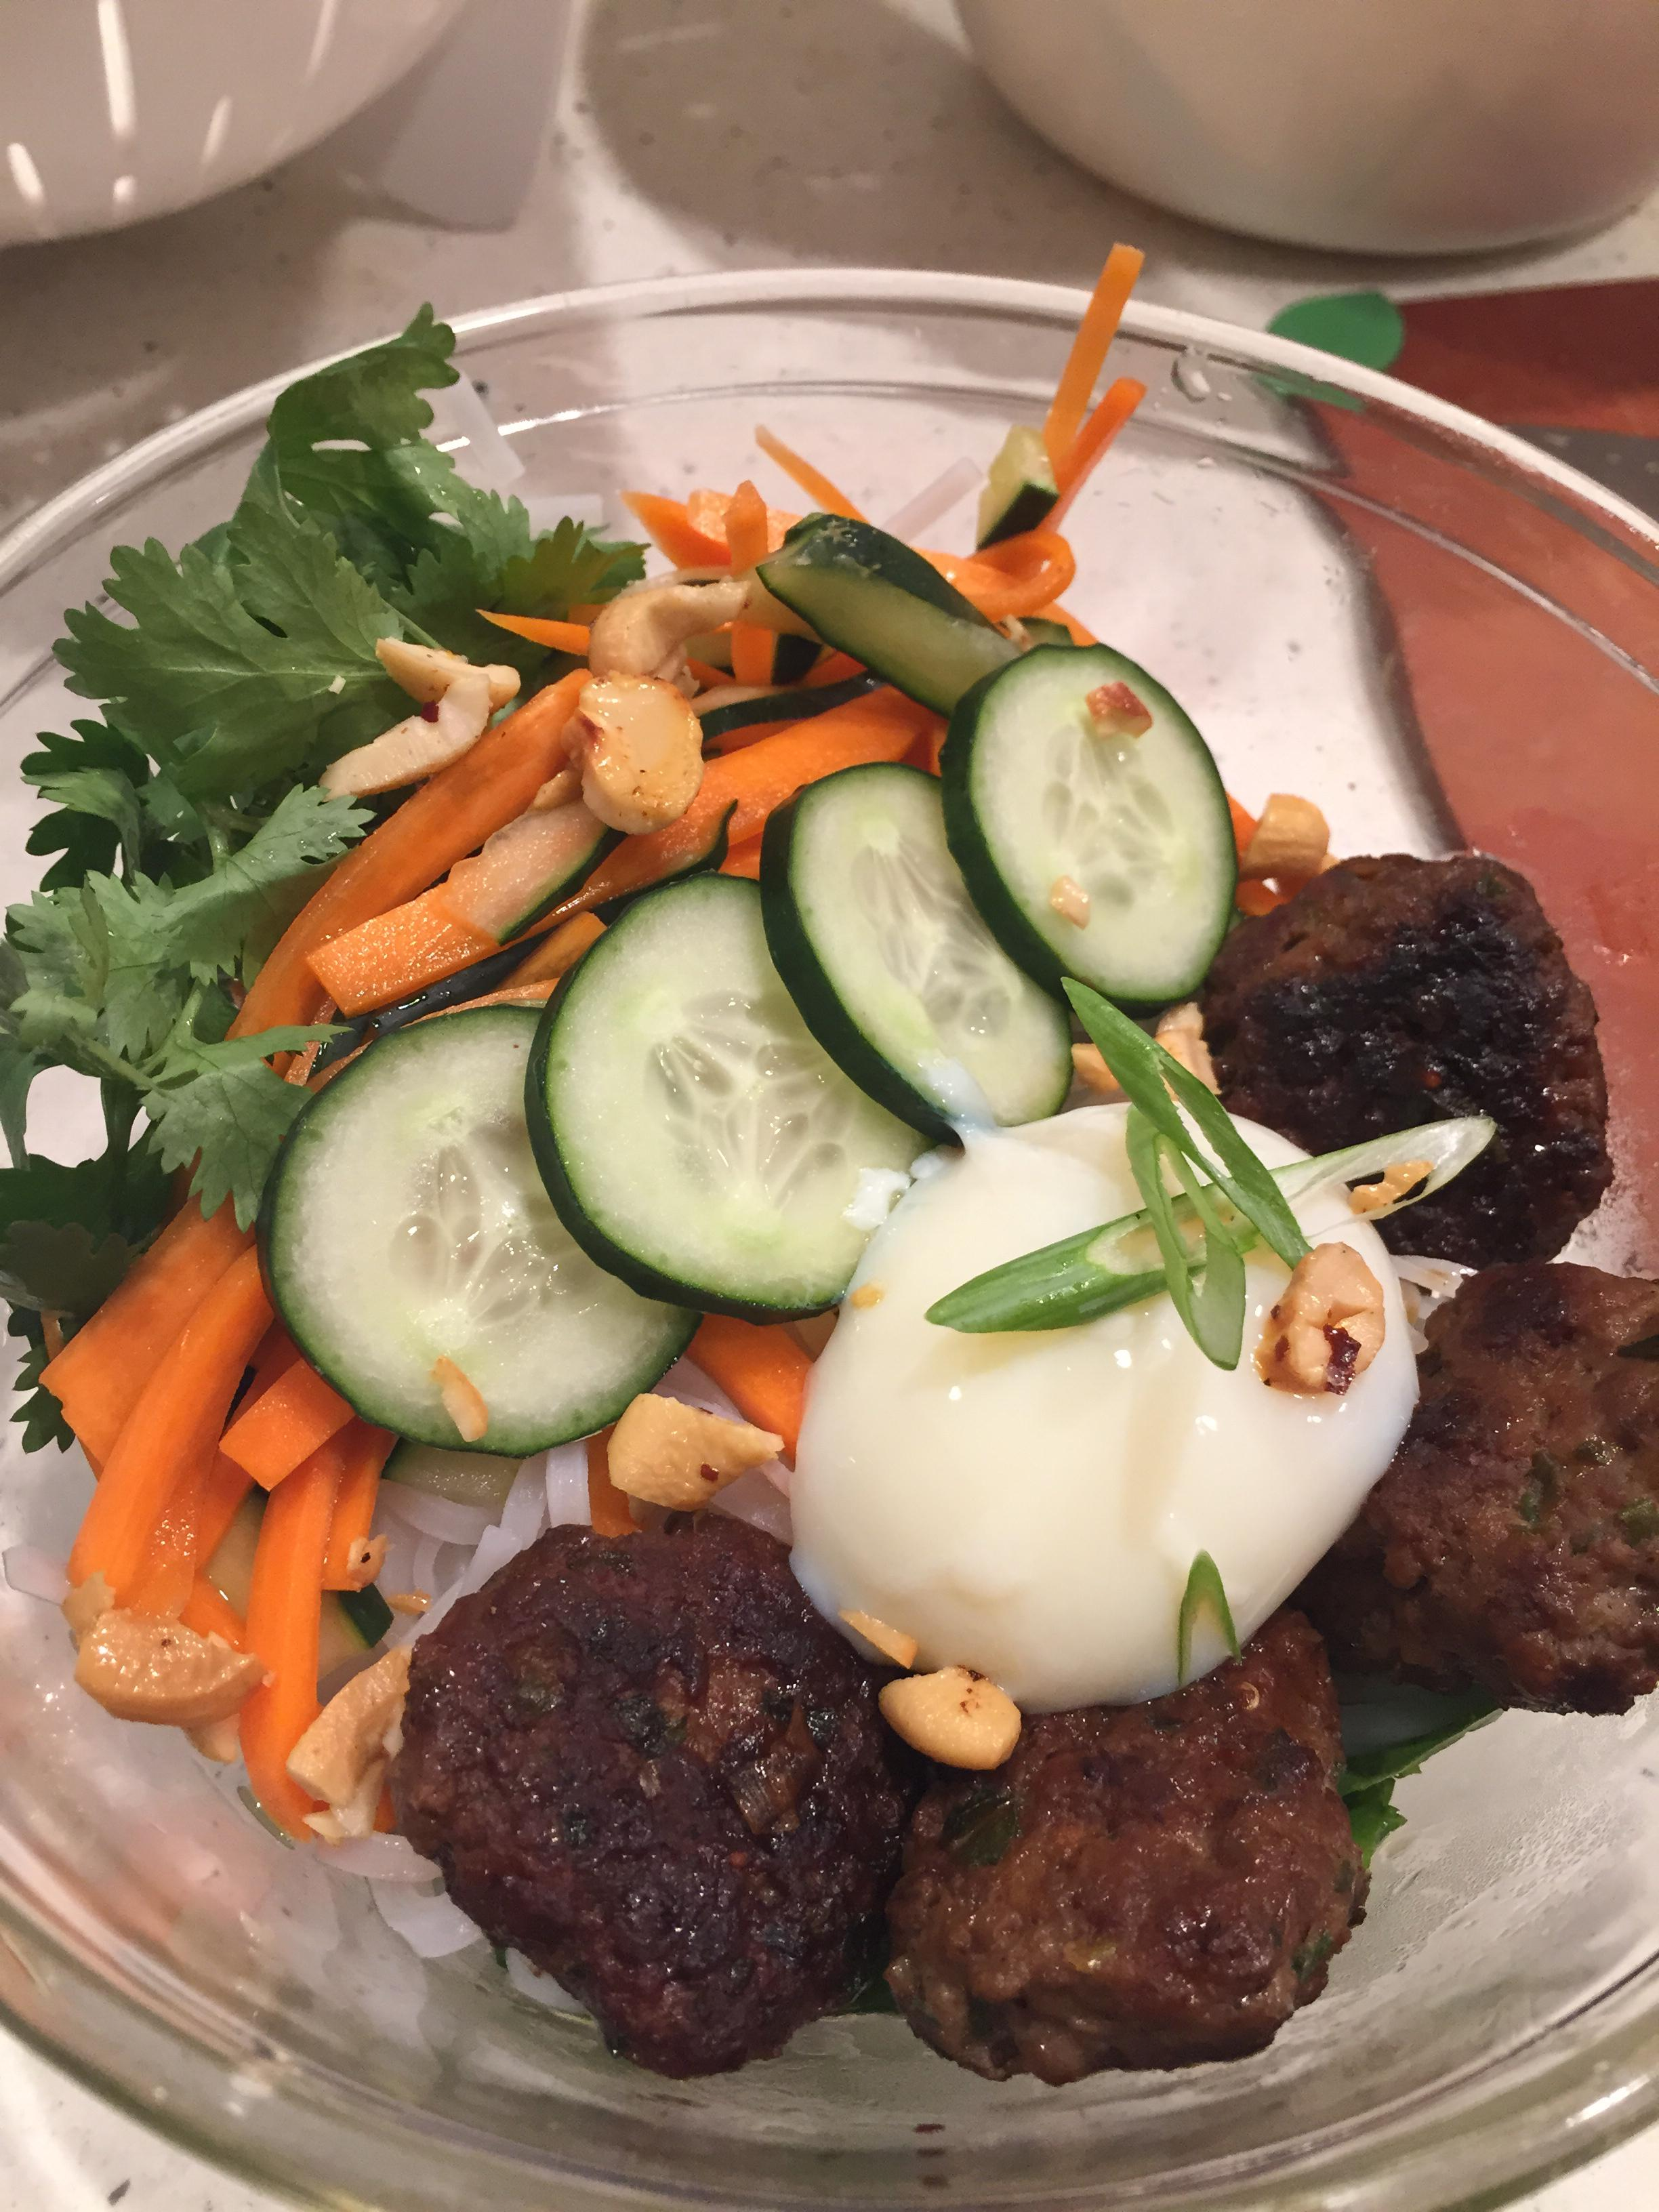fried egg: (756, 1115, 1398, 1649)
meatballs: (404, 1538, 873, 2054), (890, 1634, 1351, 2071), (1223, 834, 1610, 1264), (1340, 1268, 1659, 1703)
